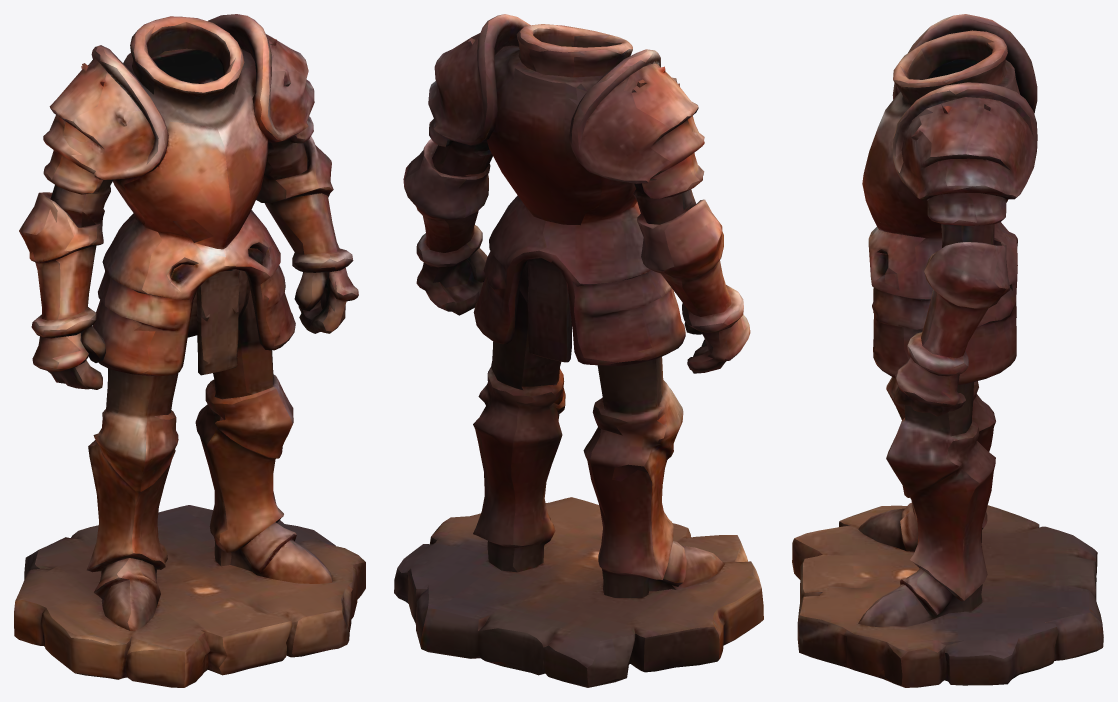
File: a-tall-empty-suit-of-plate-armou-2607bf.glb
3 renders of one model, left to right at view 1: azimuth 30°, elevation 25°; view 2: azimuth 150°, elevation 25°; view 3: azimuth 270°, elevation 25°, orthographic. The views are drawn at different scales.
Parts seen in each view (by area): view 1: geometry_0; view 2: geometry_0; view 3: geometry_0.
Part boxes in pixels (<box>): geometry_0: <box>14,14,365,687</box>; geometry_0: <box>394,14,763,687</box>; geometry_0: <box>792,14,1103,687</box>.
Bounding box in the file's own units: 0.5701 × 1 × 0.4956.
Materials: 1 (1 with a texture image).
